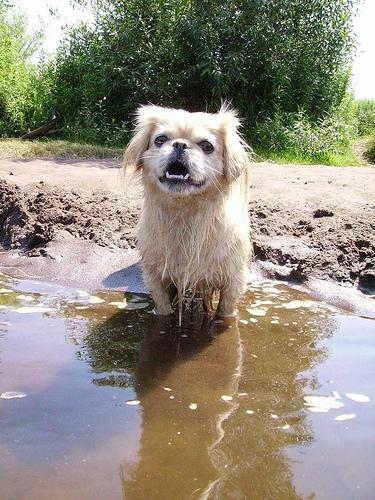dog-japanese_chin: (125, 103, 247, 196)
